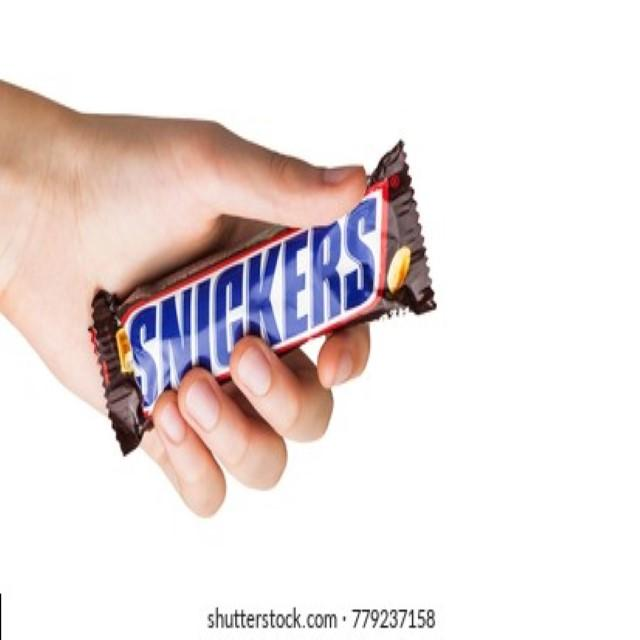snickers_chocolate: (98, 200, 420, 433)
